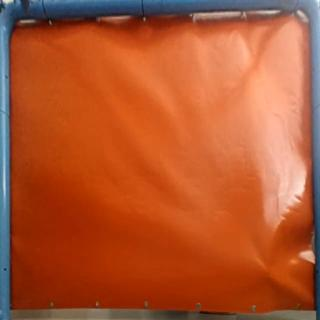Hit-hRxx: (262, 266, 280, 284)
